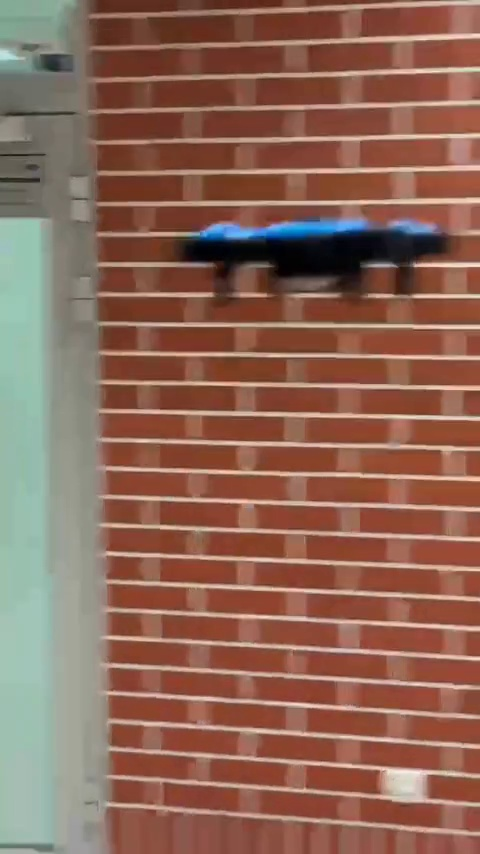drone: (177, 217, 448, 303)
